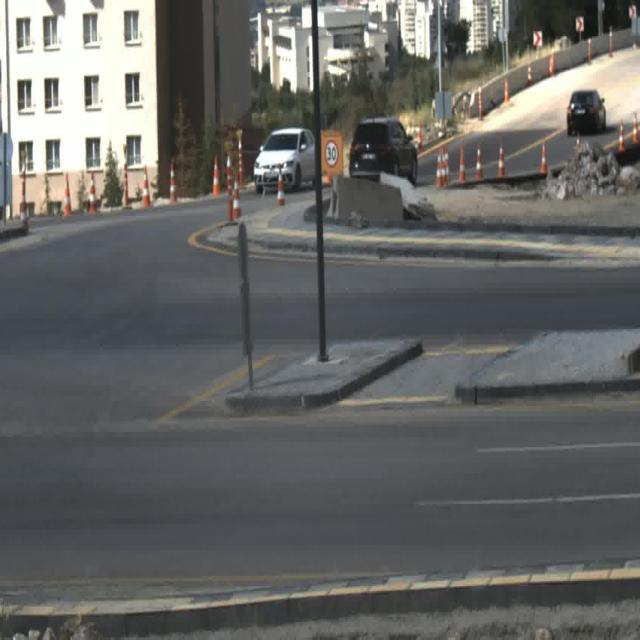Car: (351, 118, 424, 183), (250, 129, 315, 190), (566, 88, 608, 136)
